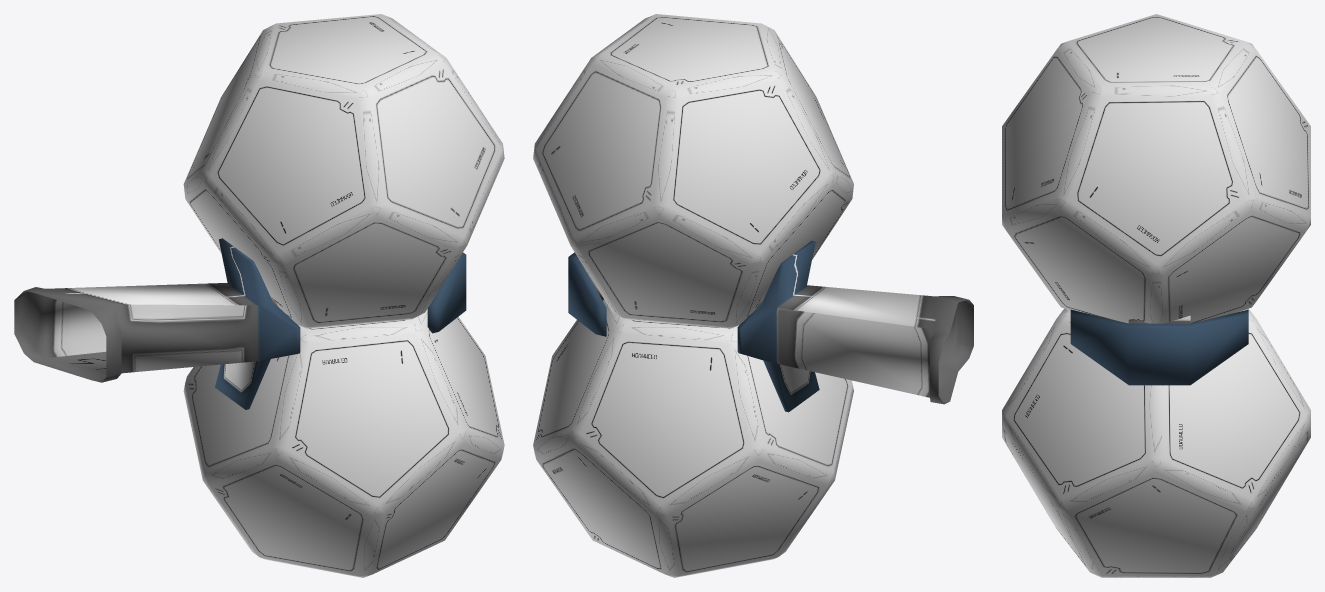
File: AlmacenamientoAvanzado.fbx
3 renders of one model, left to right at view 1: azimuth 30°, elevation 25°; view 2: azimuth 150°, elevation 25°; view 3: azimuth 270°, elevation 25°, orthographic.
Visible parts, largest first — view 1: Avanzados; view 2: Avanzados; view 3: Avanzados.
Boxes of the visible parts, bbox=[...] form: Avanzados: bbox=[14, 14, 504, 577]; Avanzados: bbox=[533, 14, 973, 577]; Avanzados: bbox=[1002, 14, 1310, 577].
Size of the model in its own units: 1.78 by 1.95 by 1.11.
1 material, 1 textured.
